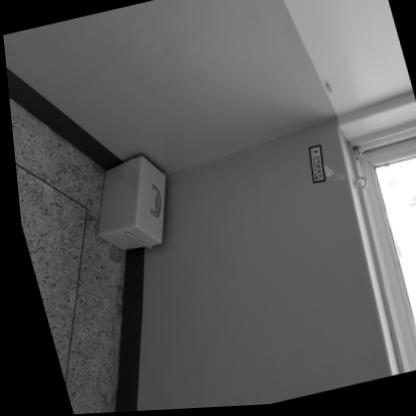DDL: (75, 151, 178, 258)
